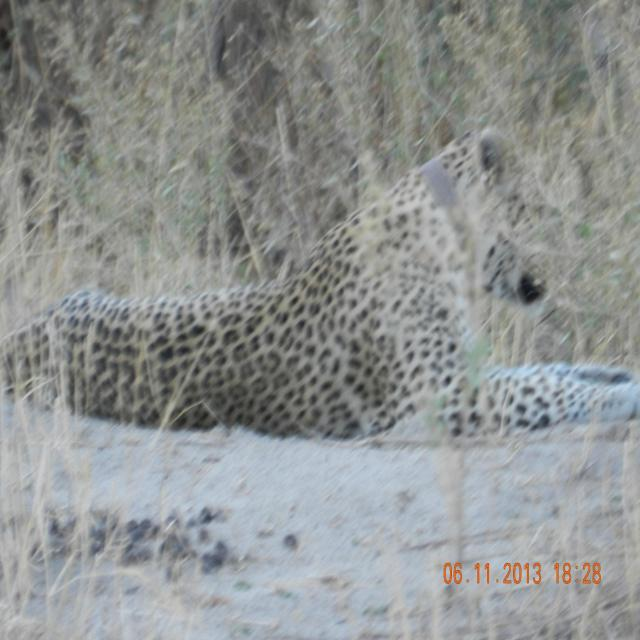Leopard: (7, 104, 620, 444)
